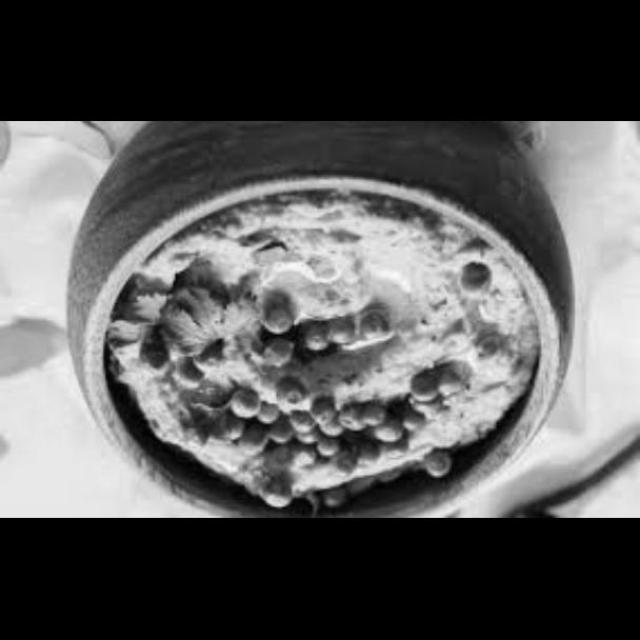peas: (192, 375, 414, 467), (287, 308, 401, 352), (134, 342, 209, 399), (397, 367, 475, 414), (246, 328, 308, 384), (238, 299, 305, 347), (246, 470, 302, 514), (448, 264, 499, 308), (180, 336, 220, 378), (465, 330, 497, 370), (312, 485, 349, 515), (426, 466, 465, 486)
